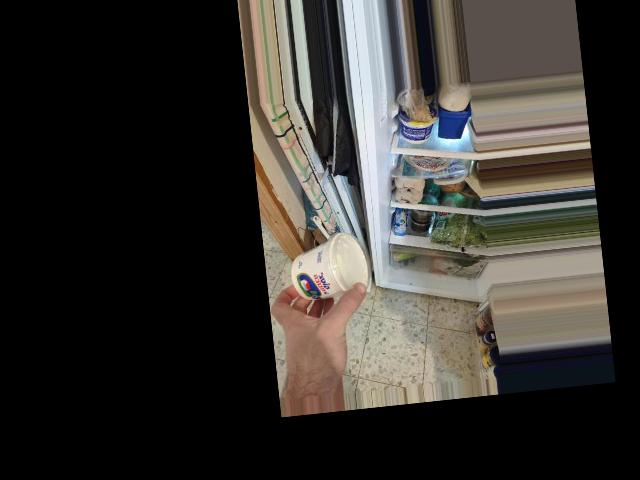cotage: (284, 227, 375, 313)
